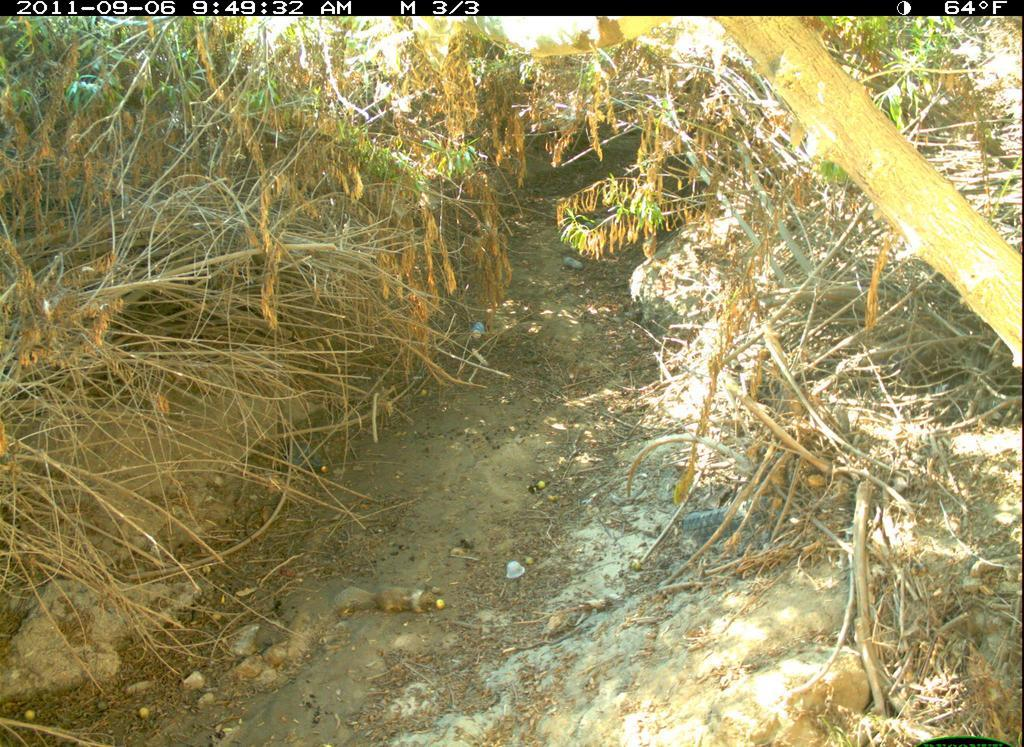squirrel: (323, 577, 450, 624)
